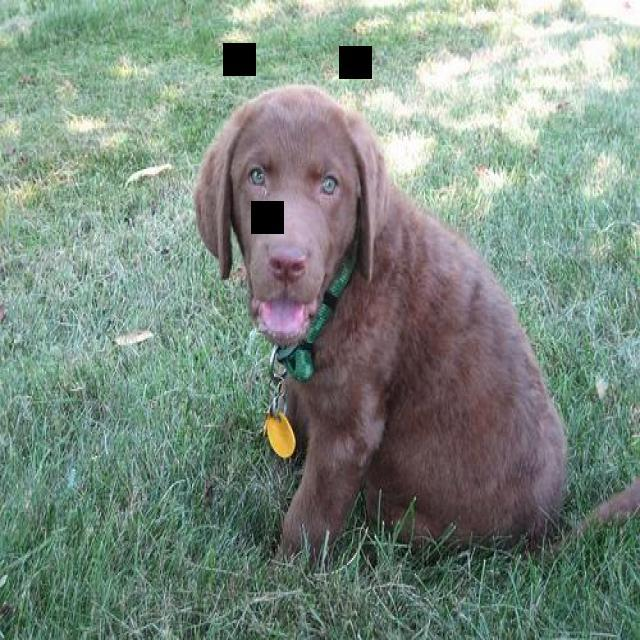puppy-dog: (189, 76, 578, 561)
